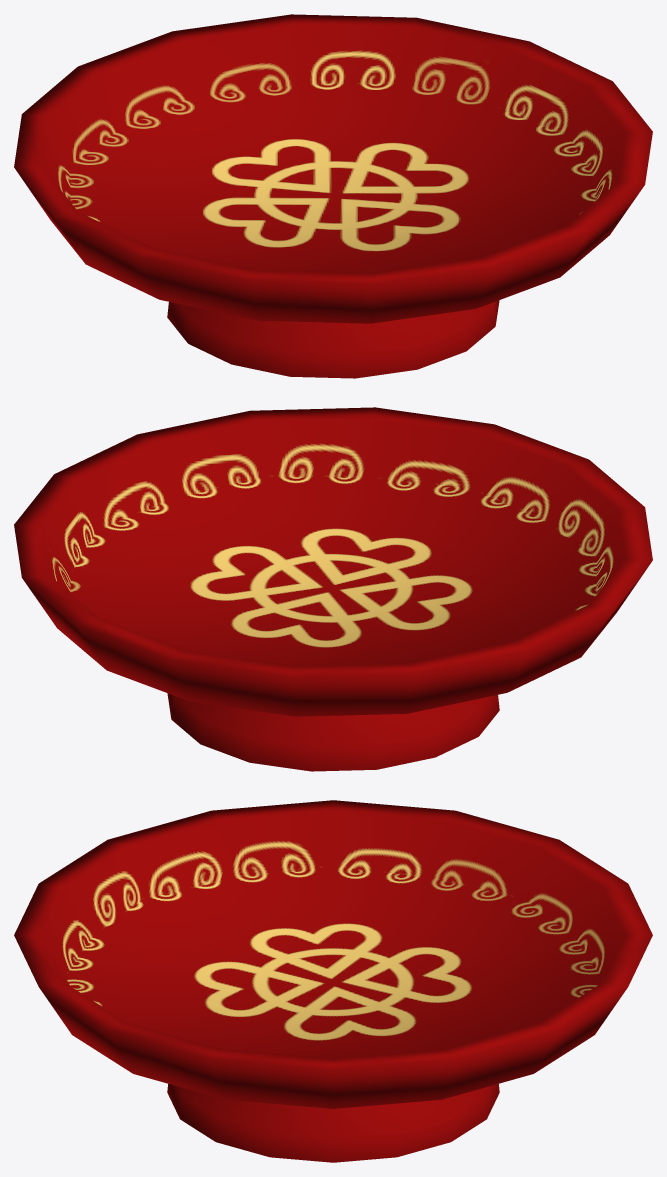
The model's file is Plate_forMorgue.fbx.
The picture shows the model from 3 angles, top to bottom: view 1: azimuth 30°, elevation 25°; view 2: azimuth 150°, elevation 25°; view 3: azimuth 270°, elevation 25°; orthographic projection.
Parts seen in each view (by area): view 1: Plate; view 2: Plate; view 3: Plate.
Boxes of the visible parts, x1,y1,x2,y2 form: Plate: (14,14,652,378); Plate: (14,407,652,771); Plate: (14,800,652,1162).
Size of the model in its own units: 27.75 by 7.54 by 27.75.
Materials: 1 (1 with a texture image).
